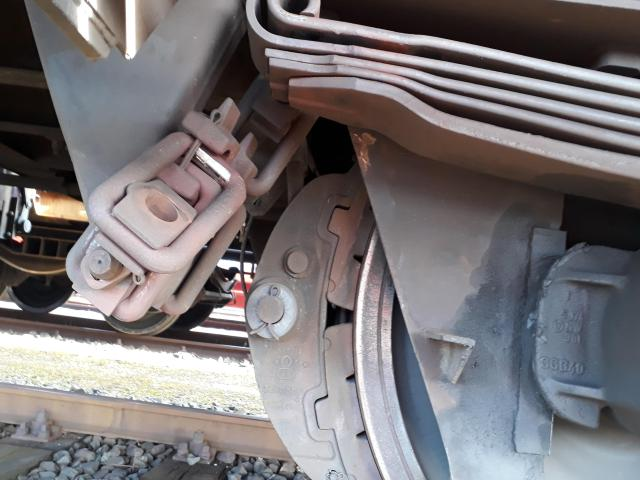blattfederww: (236, 6, 640, 168)
